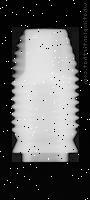Hiossen: (12, 27, 79, 162)
